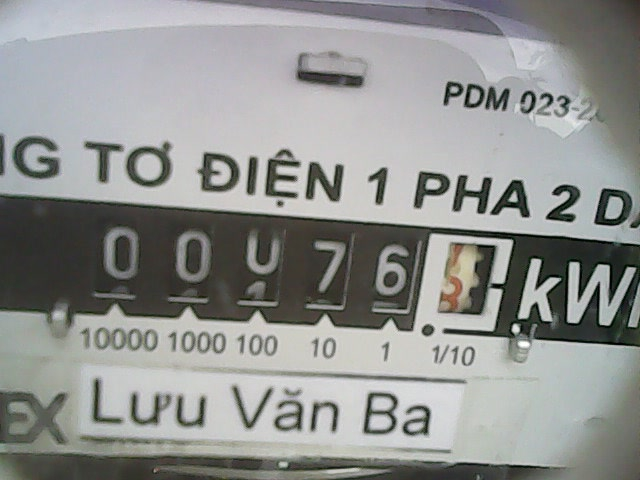phy_plate: (83, 198, 518, 343)
